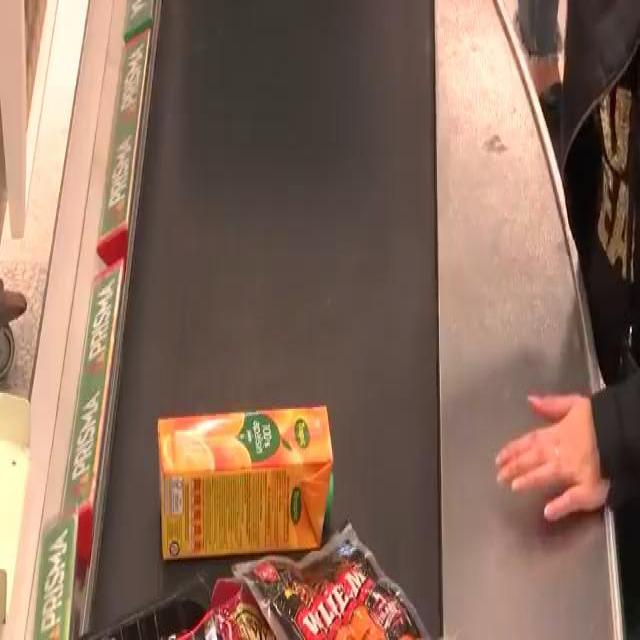food-box: (162, 408, 336, 559), (250, 556, 424, 640)
